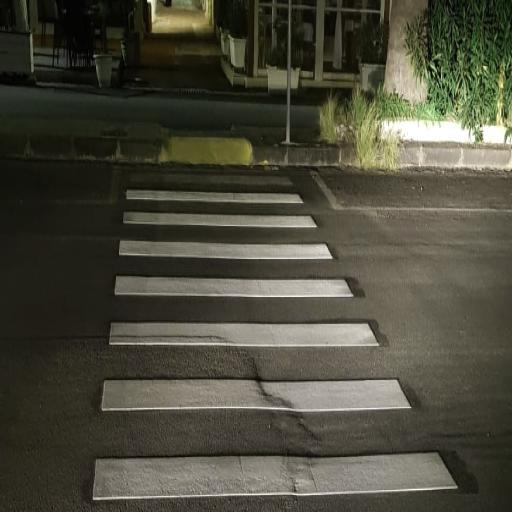crosswalk: (102, 268, 382, 354), (120, 186, 318, 236)
